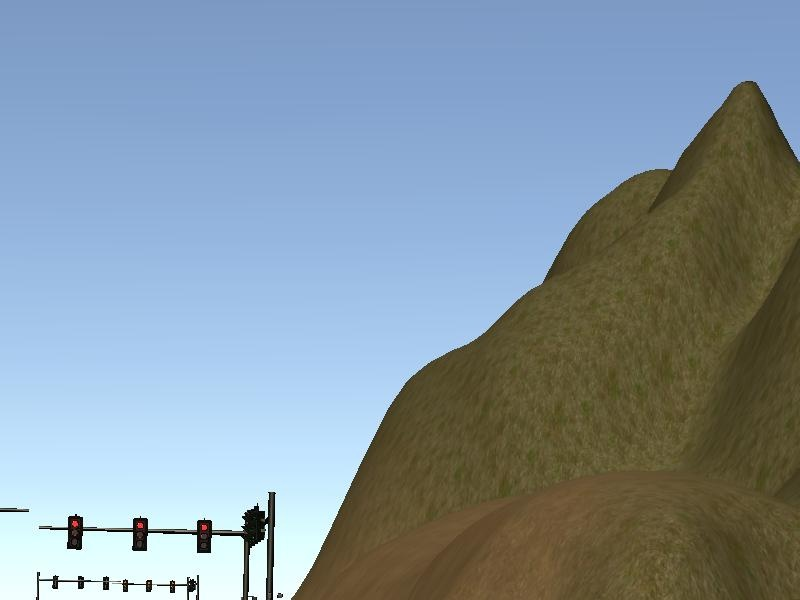red: (67, 511, 84, 554), (131, 518, 148, 551), (196, 518, 210, 554)
